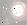Speed Limit -60-: (7, 1, 26, 20)
